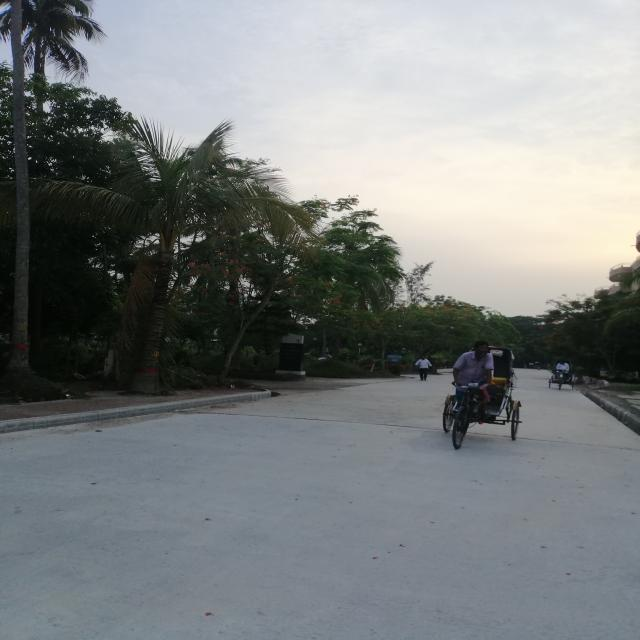Rickshaw: (433, 340, 529, 456)
